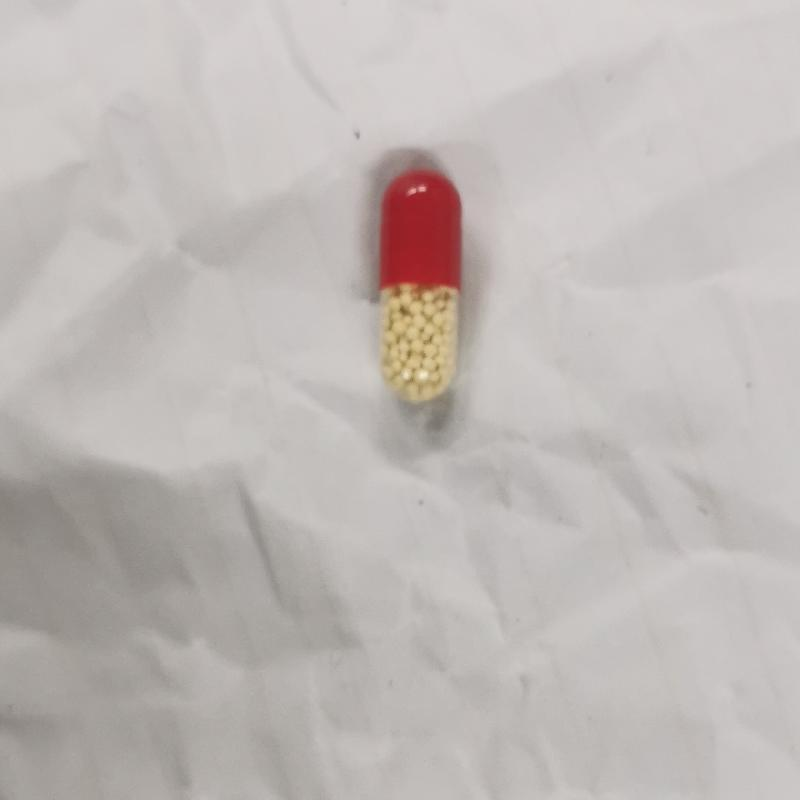pills: (363, 160, 473, 430)
